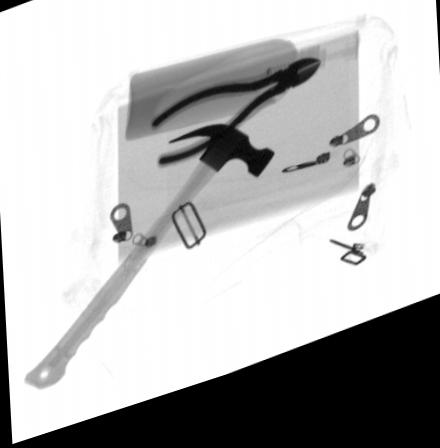Hammer: (23, 137, 274, 391)
Pliers: (150, 75, 320, 179)
